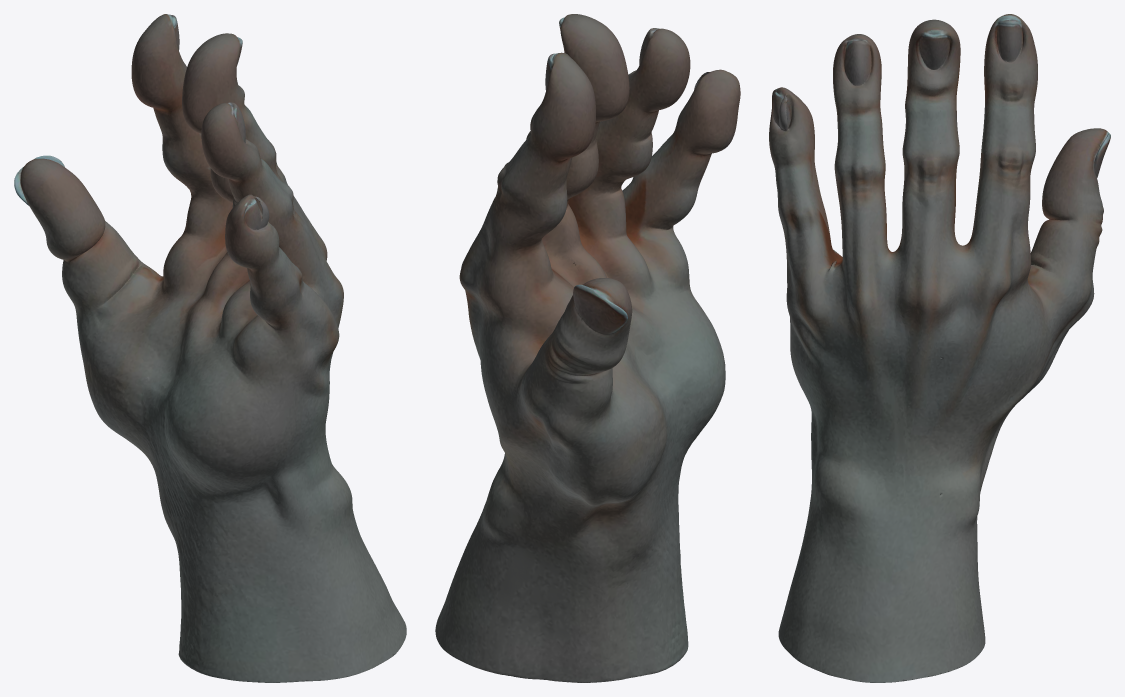
Rendered from DeathHand.fbx.
The picture shows the model from 3 angles, left to right: view 1: azimuth 30°, elevation 25°; view 2: azimuth 150°, elevation 25°; view 3: azimuth 270°, elevation 25°; orthographic projection. The views are drawn at different scales.
Parts seen in each view (by area): view 1: tripo_node_c02aeb31; view 2: tripo_node_c02aeb31; view 3: tripo_node_c02aeb31.
Part boxes in pixels (left/top/right/bottom): tripo_node_c02aeb31: left=14, top=14, right=406, bottom=682; tripo_node_c02aeb31: left=435, top=14, right=740, bottom=682; tripo_node_c02aeb31: left=769, top=14, right=1110, bottom=682.
Bounding box in the file's own units: 47.87 × 100 × 52.37.
Materials: 1 (1 with a texture image).
